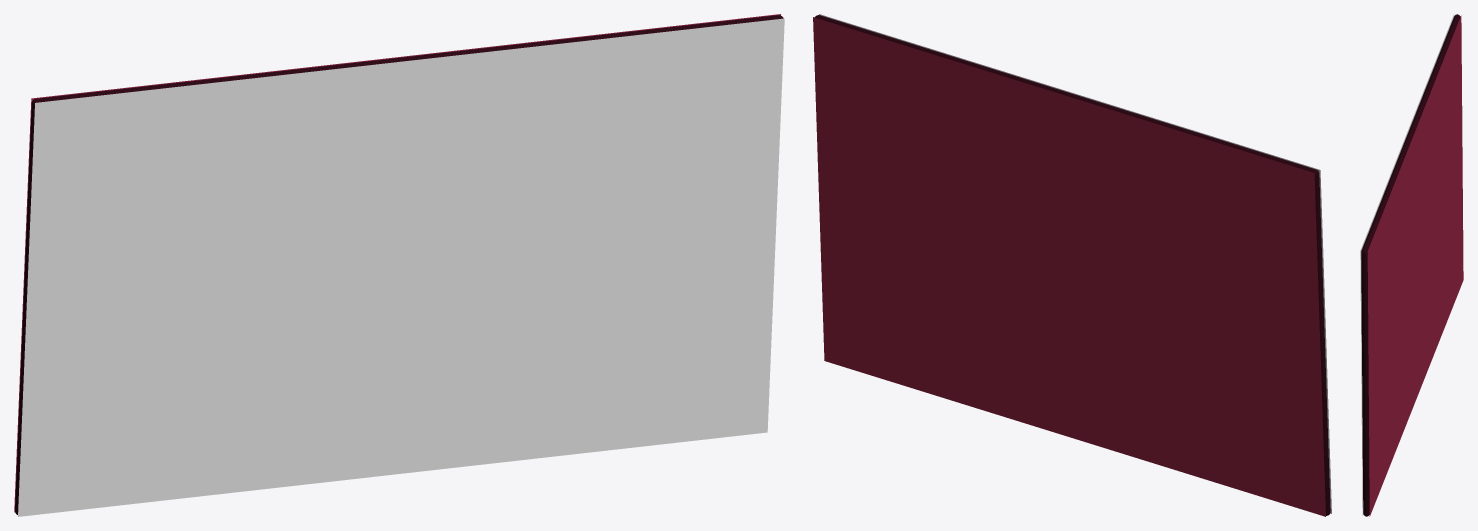
Rendered from card.glb.
The picture shows the model from 3 angles, left to right: view 1: azimuth 30°, elevation 25°; view 2: azimuth 150°, elevation 25°; view 3: azimuth 270°, elevation 25°; orthographic projection. The views are drawn at different scales.
Visible parts, largest first — view 1: CardFront, CardEdge, CardBack; view 2: CardBack, CardEdge, CardFront; view 3: CardBack, CardEdge, CardFront.
Part boxes in pixels (<box>): CardFront: <box>18,18,784,516</box>; CardEdge: <box>15,15,783,514</box>; CardBack: <box>14,14,780,512</box>; CardBack: <box>813,17,1325,516</box>; CardEdge: <box>815,15,1330,515</box>; CardFront: <box>819,14,1331,513</box>; CardBack: <box>1367,15,1463,516</box>; CardEdge: <box>1361,14,1460,516</box>; CardFront: <box>1360,14,1454,515</box>.
Bounding box in the file's own units: 3.52 × 2.14 × 0.6868.
